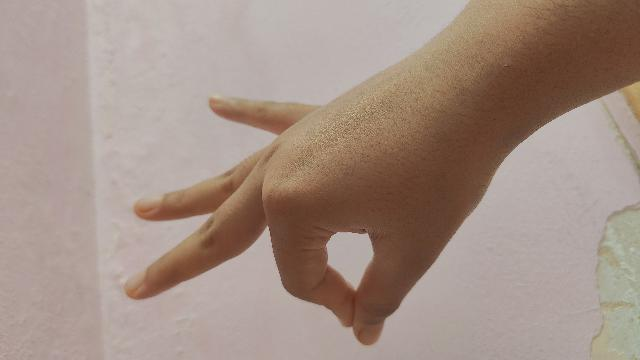hansaasya: (122, 0, 640, 347)
